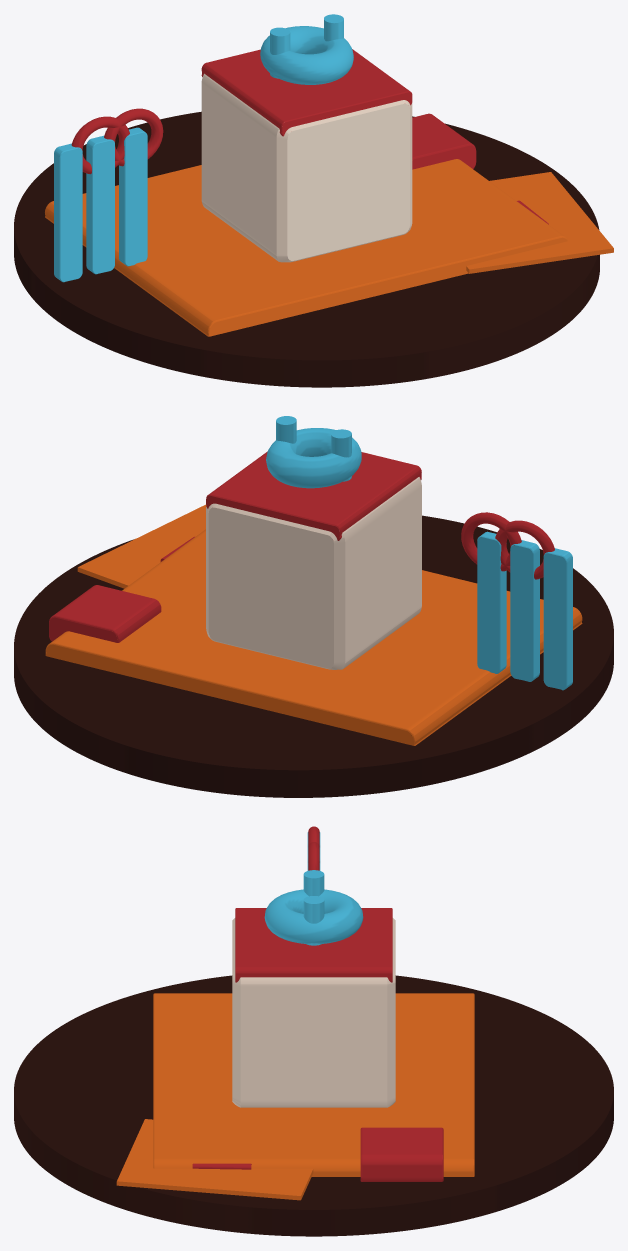
Rendered from 0613_考古图鉴_钻木取火器.glb.
3 renders of one model, top to bottom at view 1: azimuth 30°, elevation 25°; view 2: azimuth 150°, elevation 25°; view 3: azimuth 270°, elevation 25°, orthographic. The views are drawn at different scales.
Visible parts, largest first — view 1: card_0613; view 2: card_0613; view 3: card_0613.
Boxes of the visible parts, bbox=[...] form: card_0613: bbox=[14, 14, 613, 387]; card_0613: bbox=[14, 416, 613, 797]; card_0613: bbox=[14, 826, 613, 1236].
Size of the model in its own units: 2.23 by 1 by 2.36.
